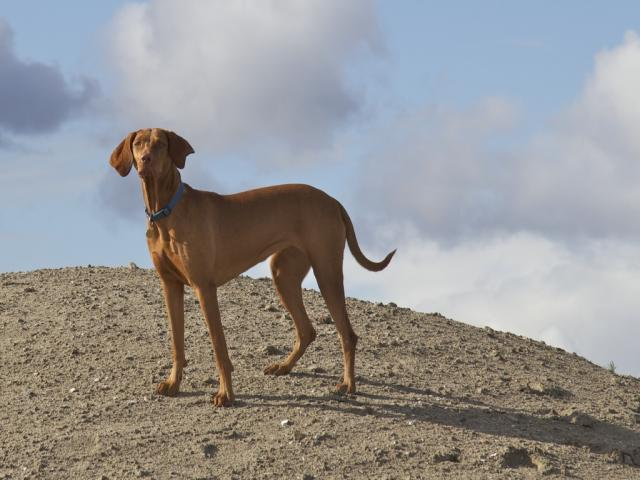Dog: (108, 126, 396, 408)
